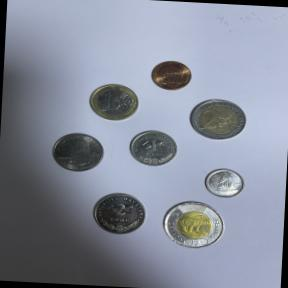coin: (159, 198, 229, 252), (186, 96, 252, 146), (88, 190, 152, 240), (48, 128, 109, 176), (86, 80, 142, 124), (148, 58, 196, 94), (202, 165, 248, 200)
